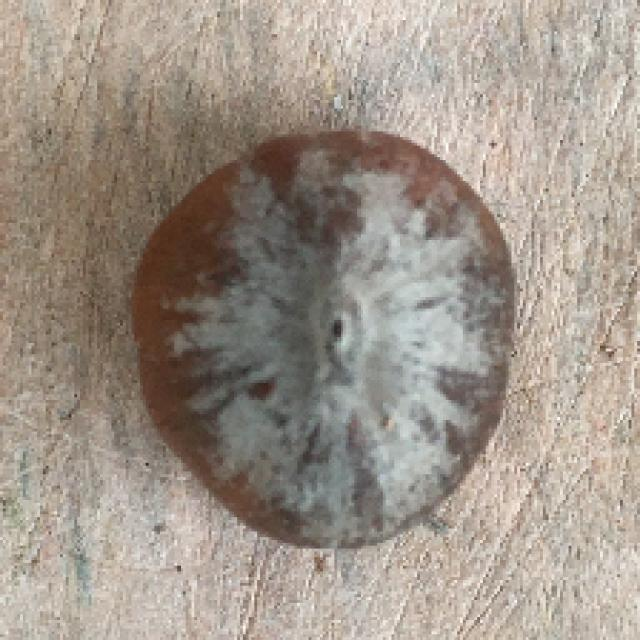qualityHazelnut: (127, 128, 516, 550)
